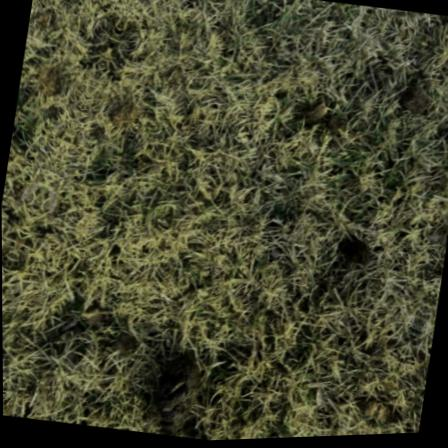dog-poop: (146, 353, 207, 442)
